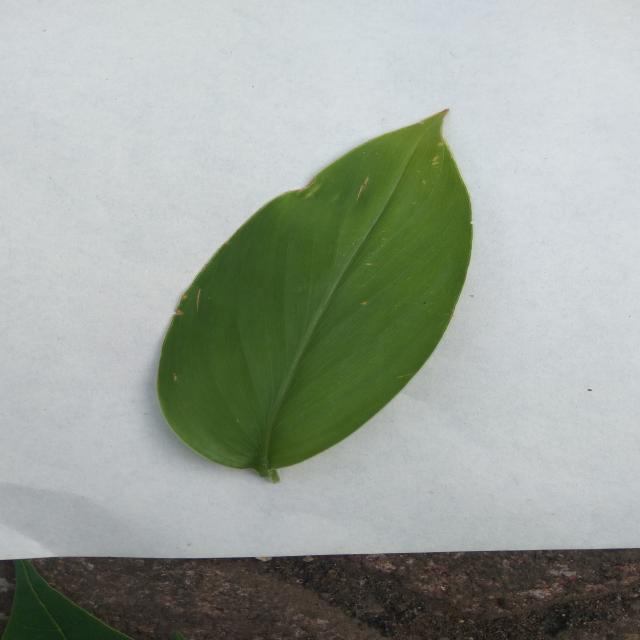turmeric: (158, 111, 471, 481)
